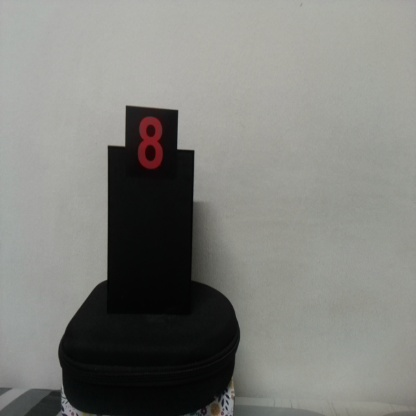id_8: (125, 108, 178, 194)
